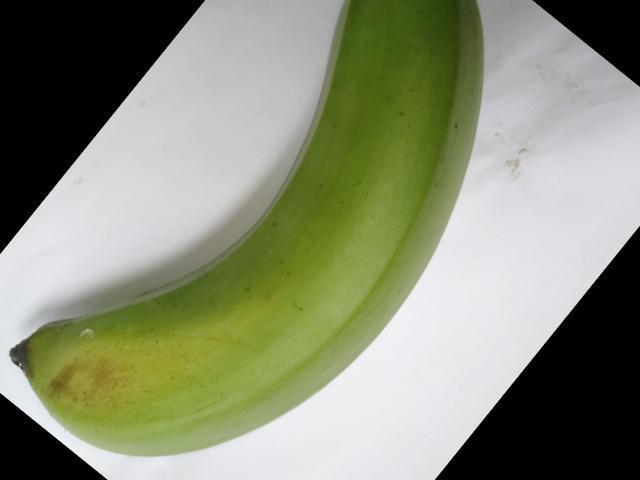freshunripe: (7, 0, 497, 458)
